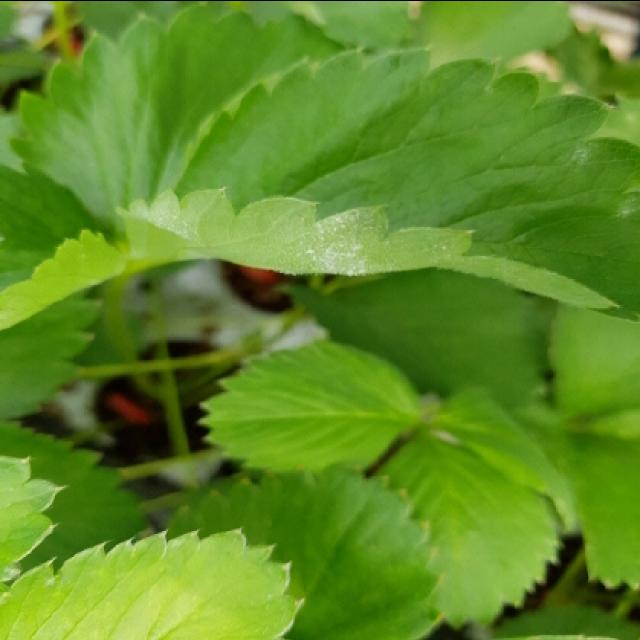Powdery Mildew Leaf: (113, 46, 638, 322)
